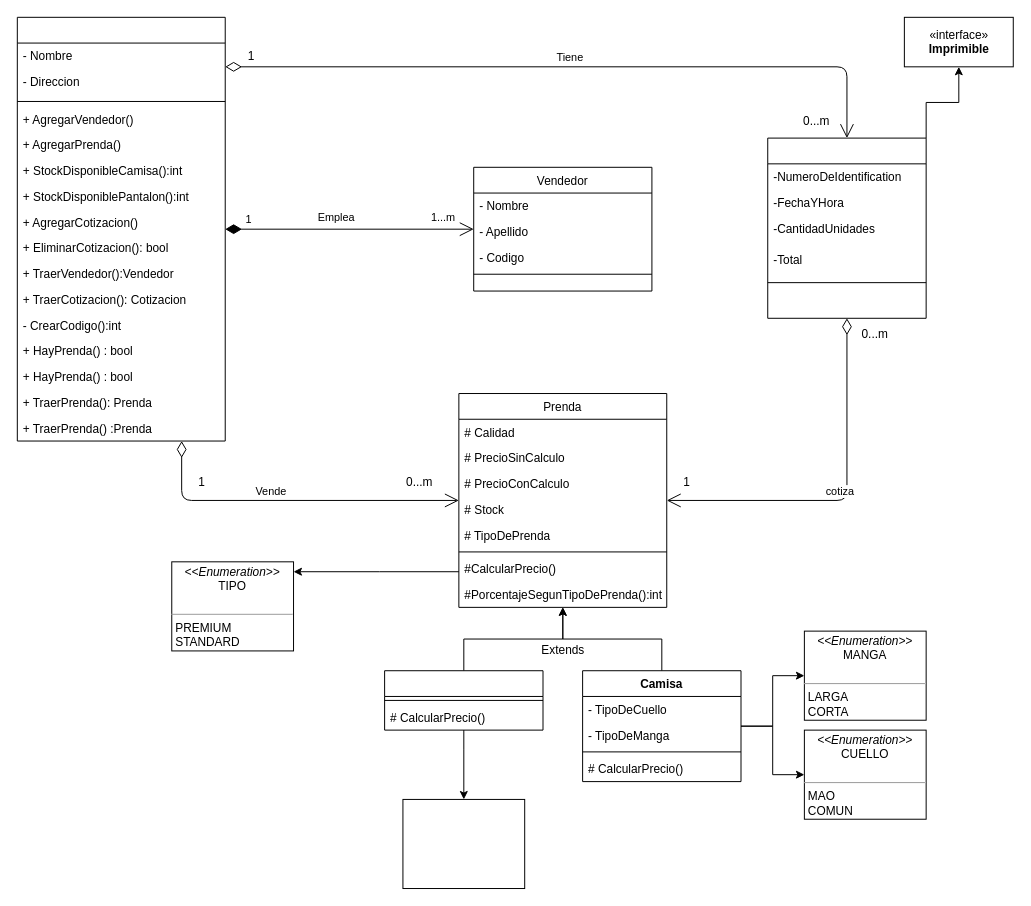
This 1031x906 diagram has some shape labels left out. The box of each missing label's shape, as (x1, y1, x2, y2) in pixels:
<<Enumeration>> TIPO CHUPIN COMUN: (402, 798, 525, 889)
Cotizacion: (767, 137, 926, 318)
Pantalon: (384, 670, 543, 730)
Tienda: (16, 16, 225, 441)
